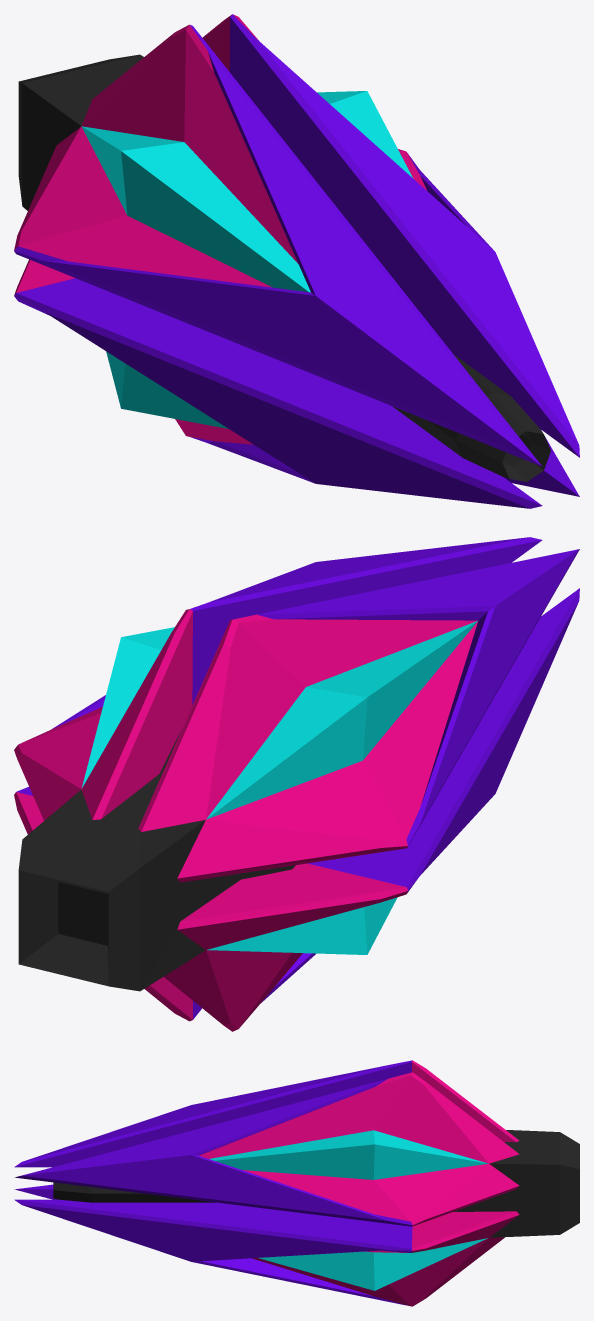
Rendered from drone.fbx.
The picture shows the model from 3 angles, top to bottom: view 1: azimuth 30°, elevation 25°; view 2: azimuth 150°, elevation 25°; view 3: azimuth 270°, elevation 25°; orthographic projection. The views are drawn at different scales.
Visible parts, largest first — view 1: pCone12; view 2: pCone12; view 3: pCone12.
Part boxes in pixels (bbox=[...]): pCone12: bbox=[14, 14, 579, 508]; pCone12: bbox=[14, 537, 579, 1031]; pCone12: bbox=[14, 1060, 579, 1306].
Bounding box in the file's own units: 0.8912 × 0.8912 × 1.95.
